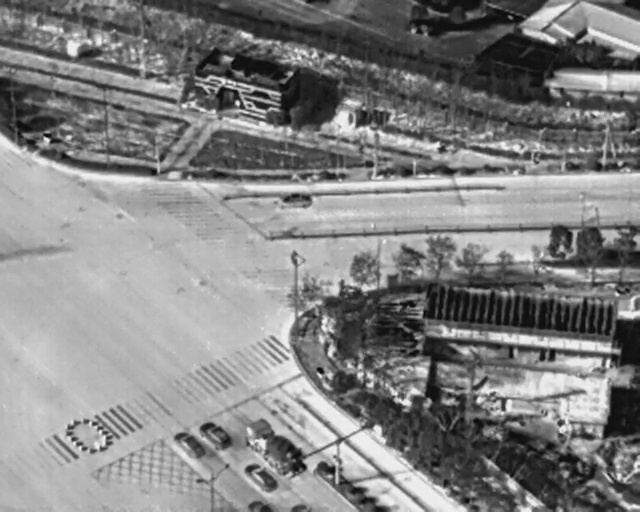Car: (241, 457, 282, 496), (196, 415, 235, 455), (172, 428, 207, 462), (276, 193, 312, 210)
